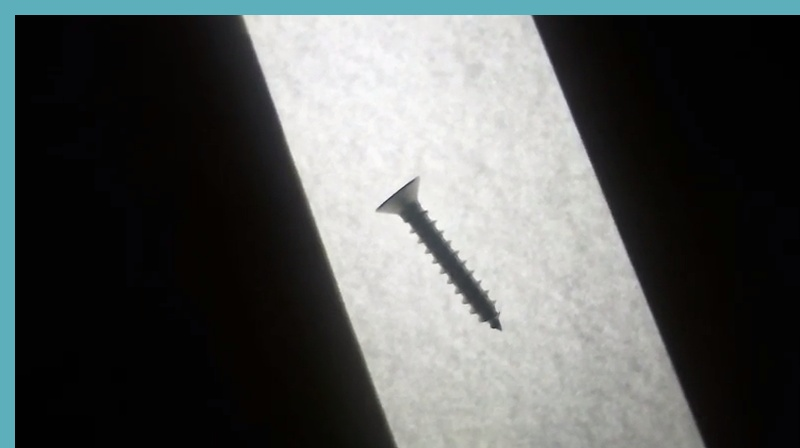S001: (369, 172, 505, 336)
